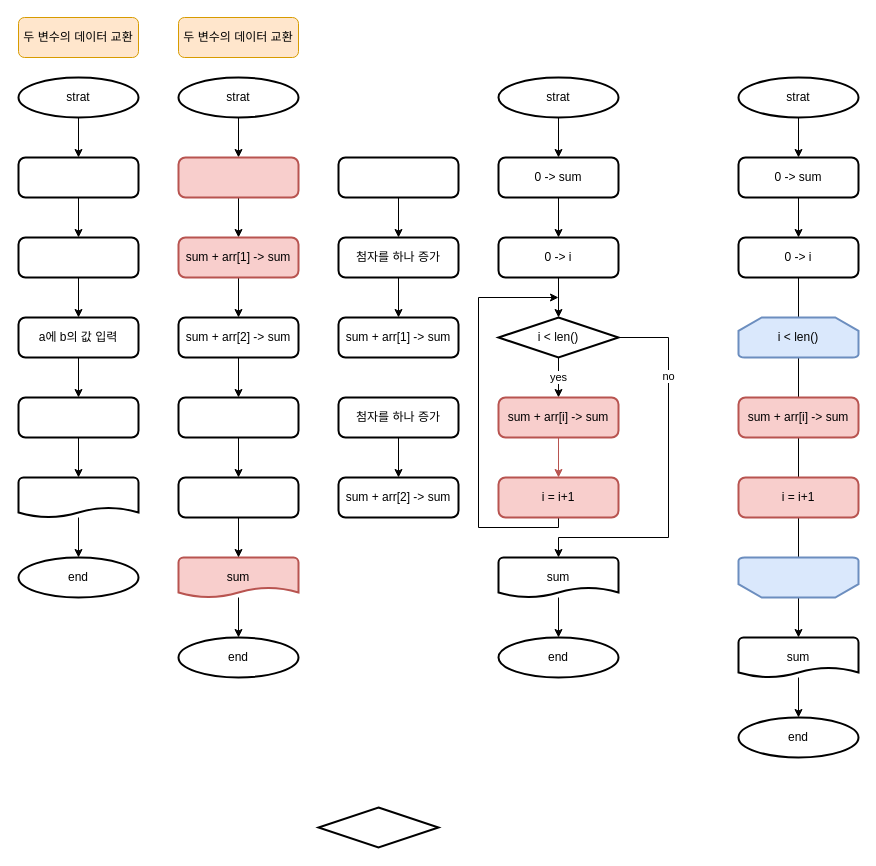
This 876x866 diagram has some shape labels left out. Here are the shapes that lost their labels. From the top down, the box of each, then its label:
(17, 156, 139, 198): 두 수 a와 b 입력
(177, 156, 299, 198): arr[0] -> sum
(337, 156, 459, 198): sum + arr[0] -> sum
(17, 236, 139, 278): t에 a의 값 입력
(17, 396, 139, 438): b에 t의 값 입력
(177, 396, 299, 438): sum + arr[3] -> sum
(17, 476, 139, 518): a와 b 출력
(177, 476, 299, 518): sum + arr[4] -> sum
(317, 806, 439, 848): a > b
